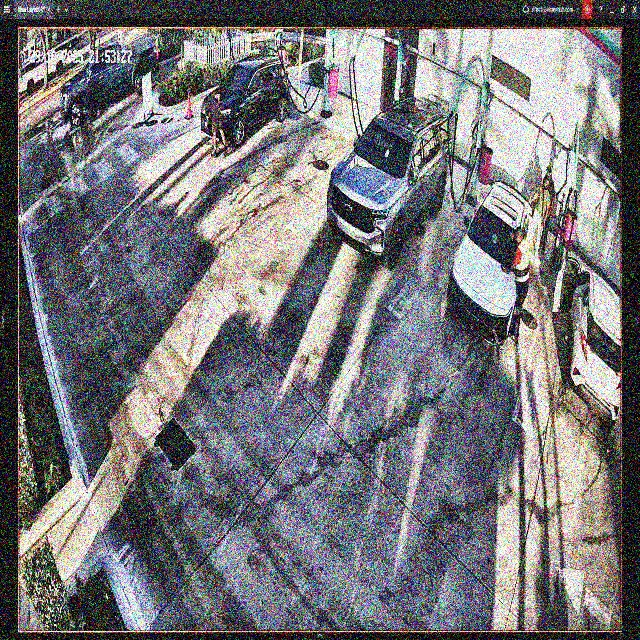Car: (325, 96, 450, 265), (449, 182, 531, 339)
